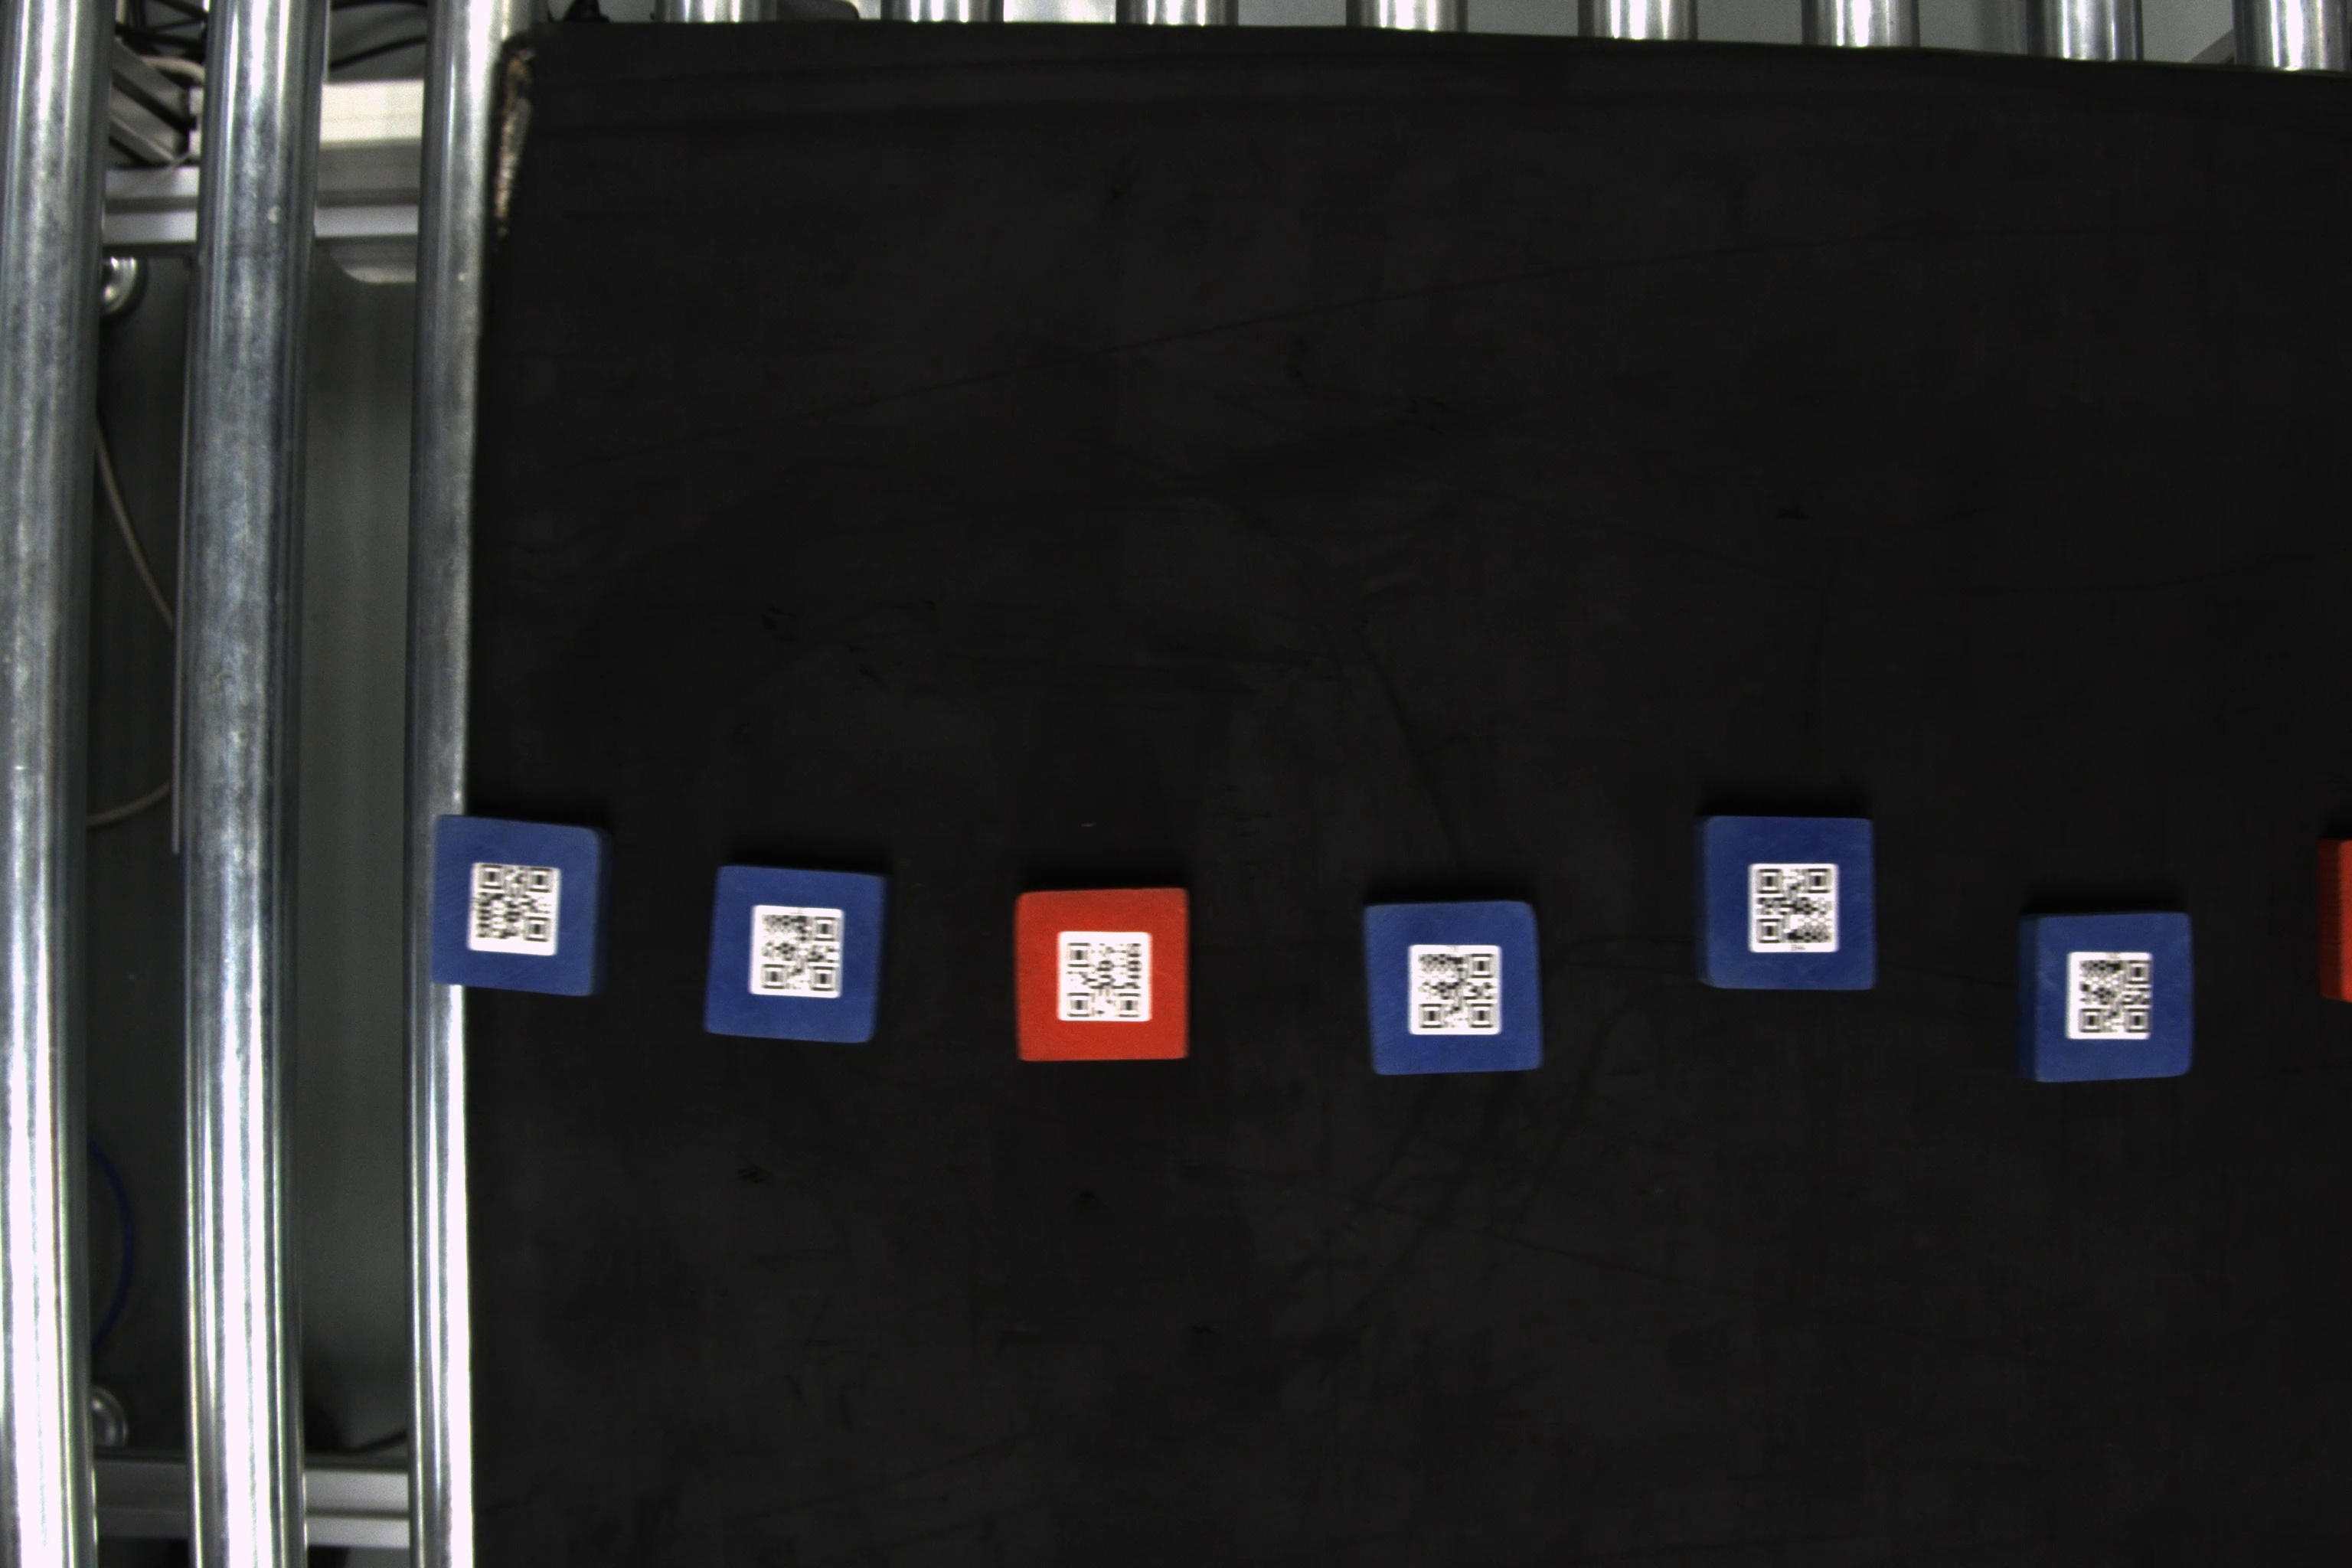wood: (700, 861, 899, 1048), (1358, 896, 1550, 1078), (1694, 810, 1881, 996), (1010, 884, 1197, 1066), (2012, 912, 2200, 1087), (434, 814, 612, 996)
